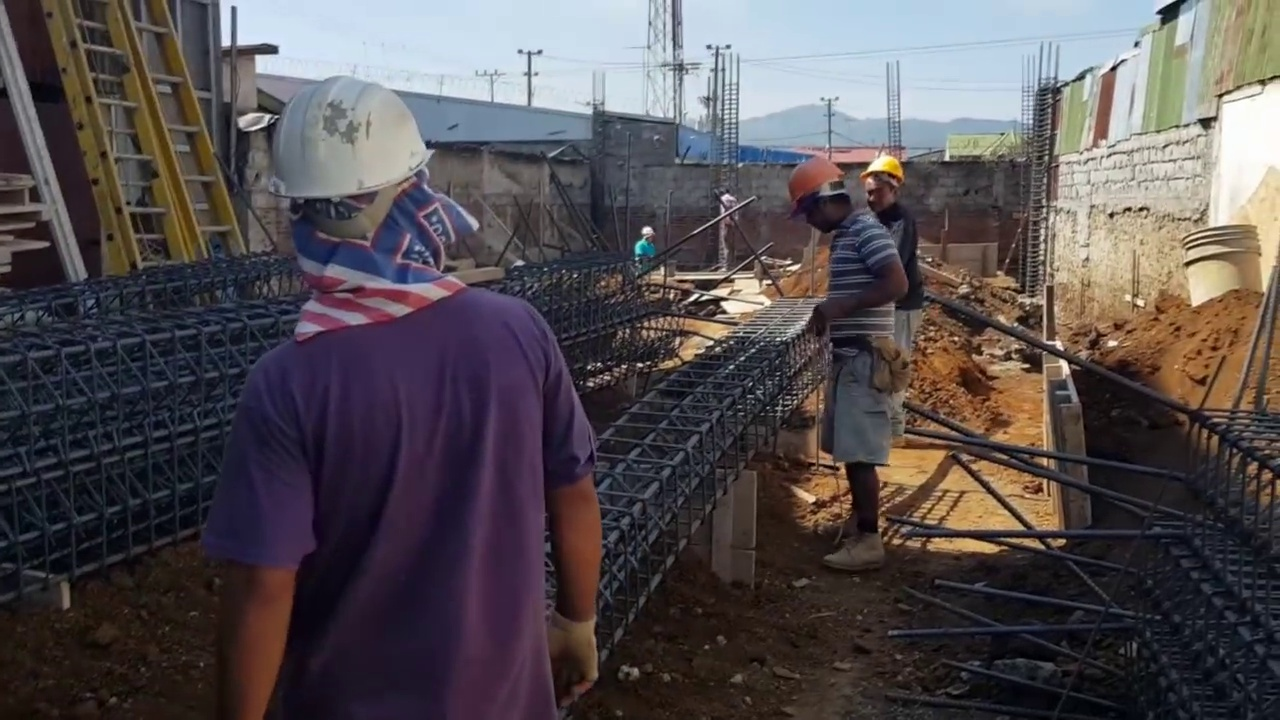helmet: (259, 73, 424, 204), (791, 156, 846, 208), (858, 153, 905, 188), (640, 226, 656, 237)
helmet-on: (259, 65, 464, 312), (790, 148, 856, 235), (860, 149, 908, 220), (640, 226, 656, 244)
person: (202, 65, 602, 720), (802, 149, 909, 554), (856, 150, 919, 450), (632, 227, 657, 269)
